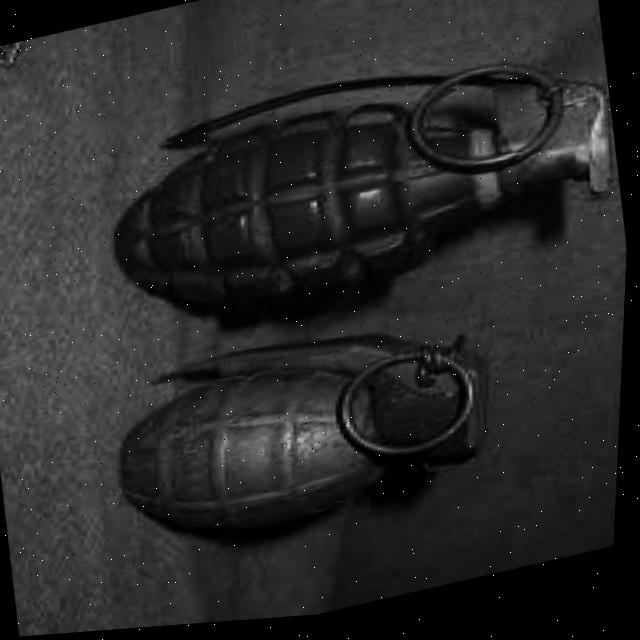grenade: (80, 0, 639, 398), (93, 288, 522, 600)
